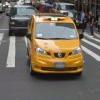Car: (25, 12, 85, 76)
